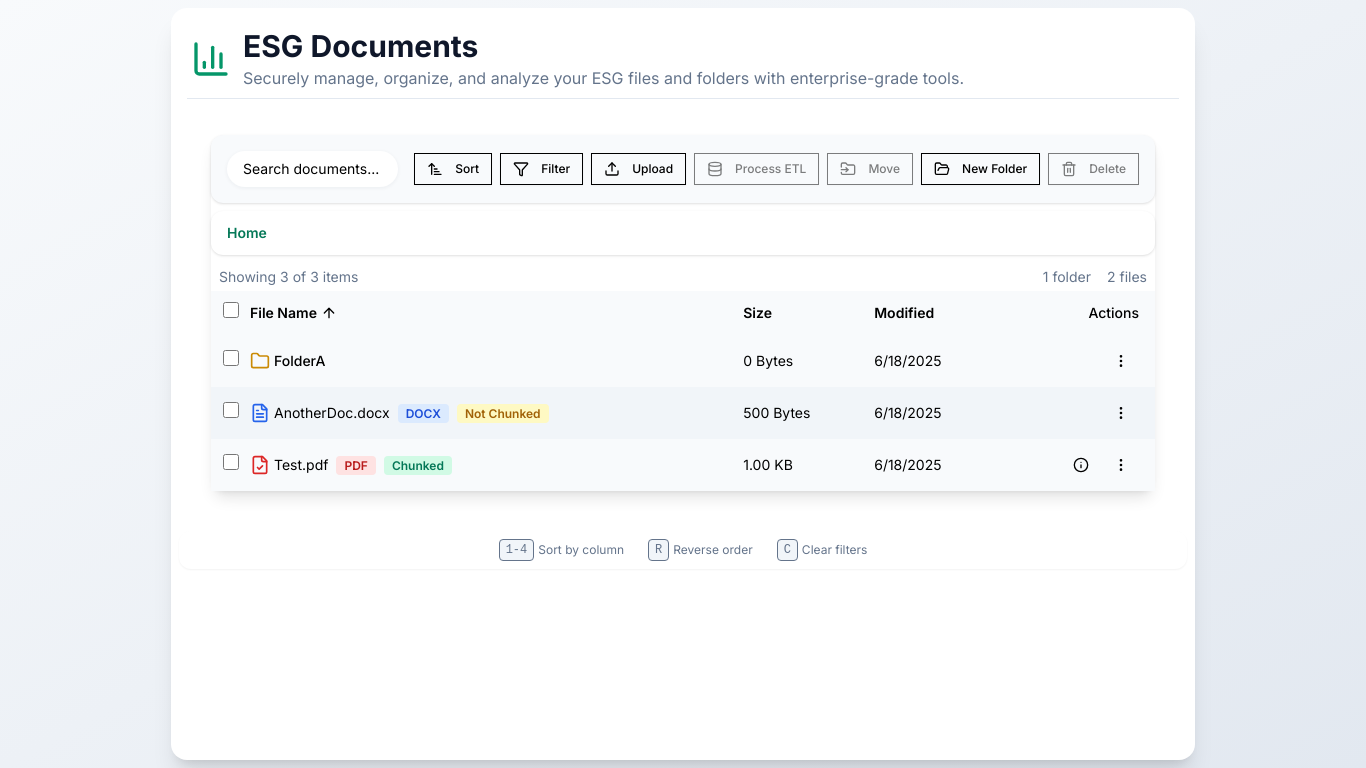
Test: Item Selection Functionality › should select all items when 'select all' checkbox is clicked and none are selected
Expected: the text "Test.pdf" is shown, [274, 456, 328, 472]
Expected: the text "FolderA" is shown, [274, 350, 325, 370]
Note: Action: Click the "Select All" checkbox
Click the checkbox named "Select all documents": (231, 310) [223, 302, 239, 318]
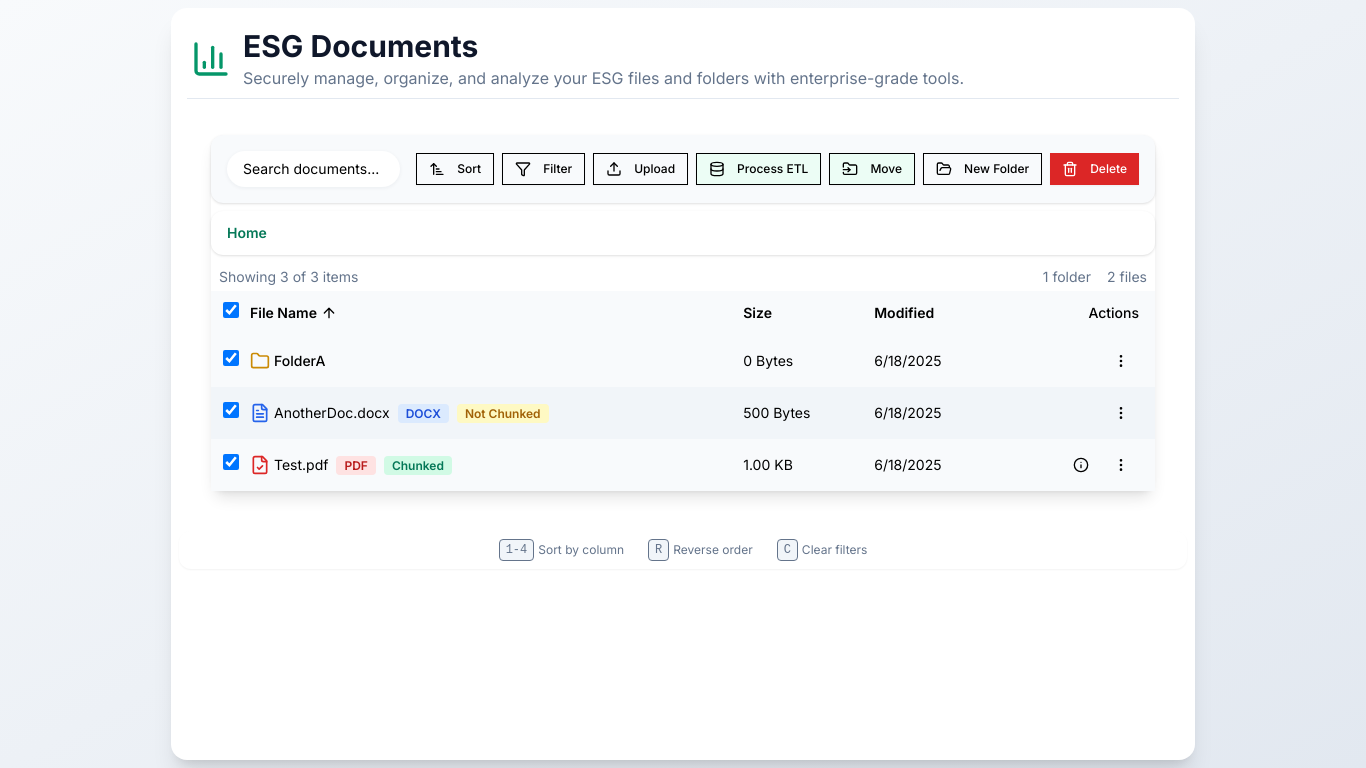
Now the checkbox named "Select all documents" is checked, box [223, 302, 239, 318]
Now the checkbox next to "Test.pdf" is checked, box [223, 454, 239, 470]
Now the checkbox next to "FolderA" is checked, box [223, 350, 239, 366]
